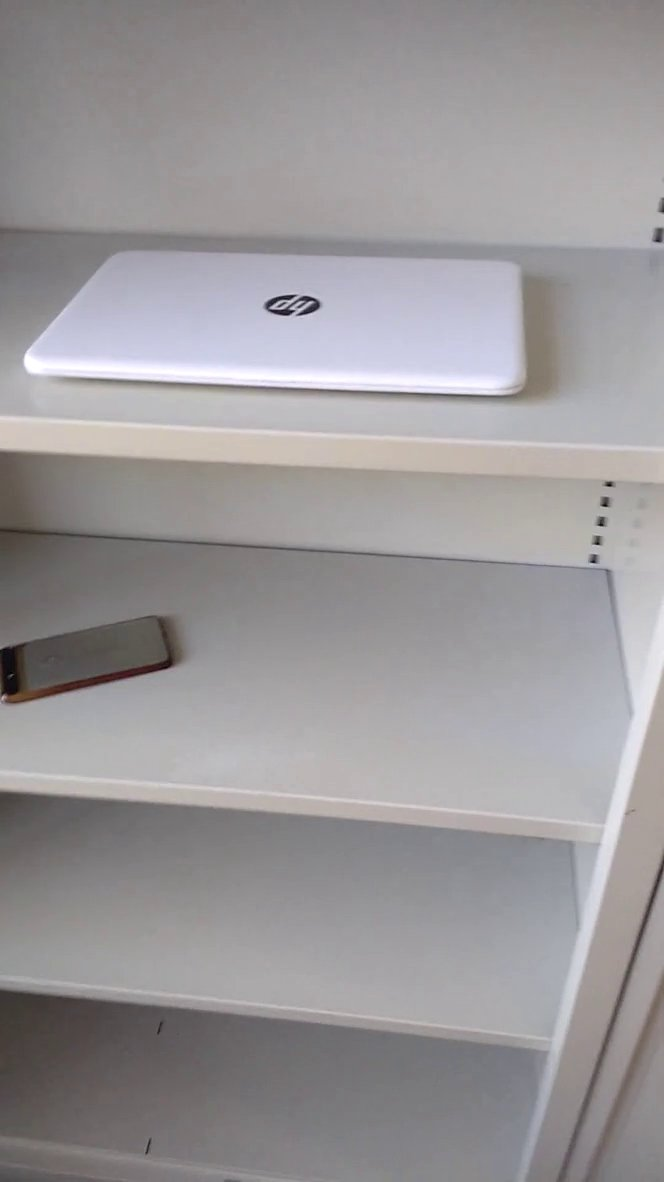laptop: (12, 231, 564, 434)
phone: (1, 606, 190, 719)
